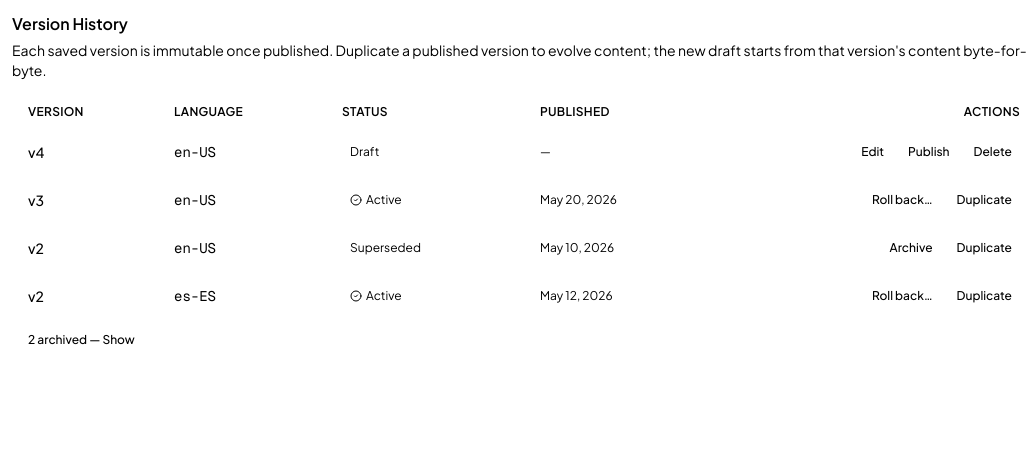
VersionsTab — Wave ED8 lifecycle table (flag ON) › status assignment (incl. multi-language two-Actives) › archived rows carry data-status='archived' + an Archived badge (once shown)
Click the button with test id "toggle-archived-versions" at (81, 340), box [28,332,135,348]
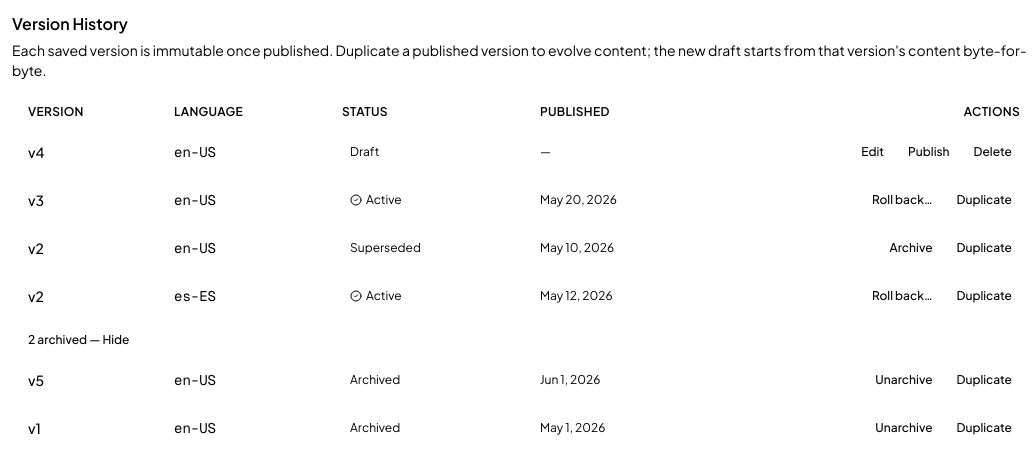
expect the text "Archived" next to "May 1, 2026" is shown: met, box [350,420,400,435]
